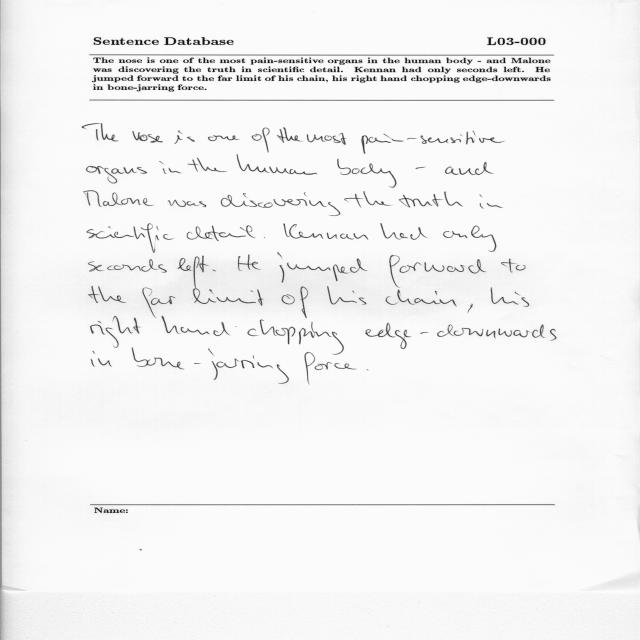word: (132, 349, 289, 384), (365, 323, 557, 349), (247, 320, 344, 355), (362, 131, 505, 154), (389, 255, 486, 287), (221, 192, 341, 216), (277, 253, 367, 283), (87, 223, 173, 253), (178, 255, 216, 304), (337, 159, 397, 188), (304, 352, 357, 384), (237, 155, 317, 175), (91, 316, 141, 348), (162, 316, 237, 336), (284, 223, 369, 240), (443, 225, 496, 252), (385, 290, 457, 307), (84, 191, 154, 207), (88, 259, 167, 273), (187, 225, 256, 241), (399, 192, 463, 208), (87, 166, 147, 183), (142, 288, 176, 318), (209, 289, 264, 306), (282, 286, 309, 318), (344, 191, 392, 208), (381, 223, 428, 240), (491, 287, 529, 307), (327, 287, 367, 305), (82, 124, 119, 142), (445, 162, 494, 175), (89, 286, 126, 303), (188, 158, 227, 172), (307, 133, 346, 145), (252, 128, 270, 153), (277, 127, 303, 143), (238, 254, 260, 271), (132, 131, 163, 143), (501, 259, 526, 273), (480, 194, 503, 209), (91, 351, 112, 367), (159, 161, 181, 174), (174, 131, 195, 144), (168, 200, 206, 207), (208, 135, 239, 141), (468, 304, 473, 313), (415, 167, 426, 169), (215, 302, 217, 303), (367, 370, 369, 371), (264, 237, 265, 238)
